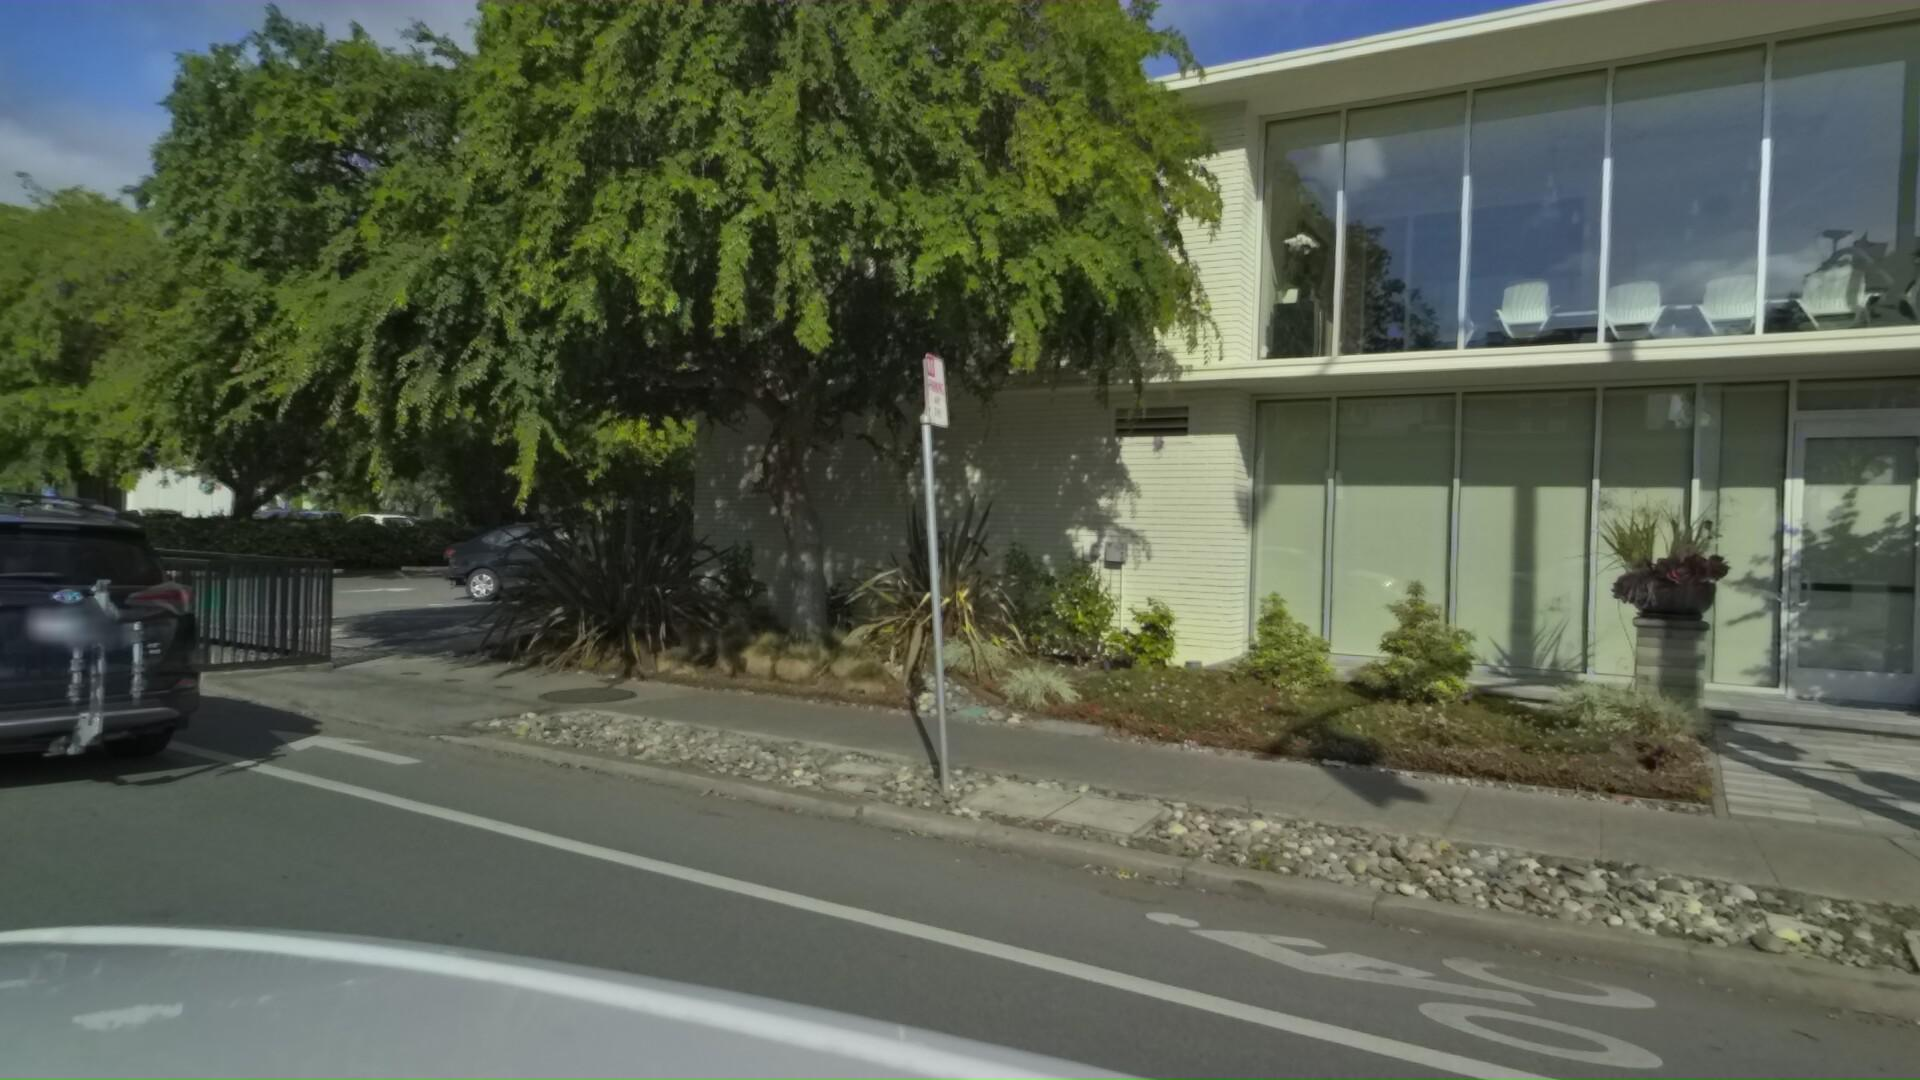car: (0, 458, 229, 836), (425, 505, 707, 607)
